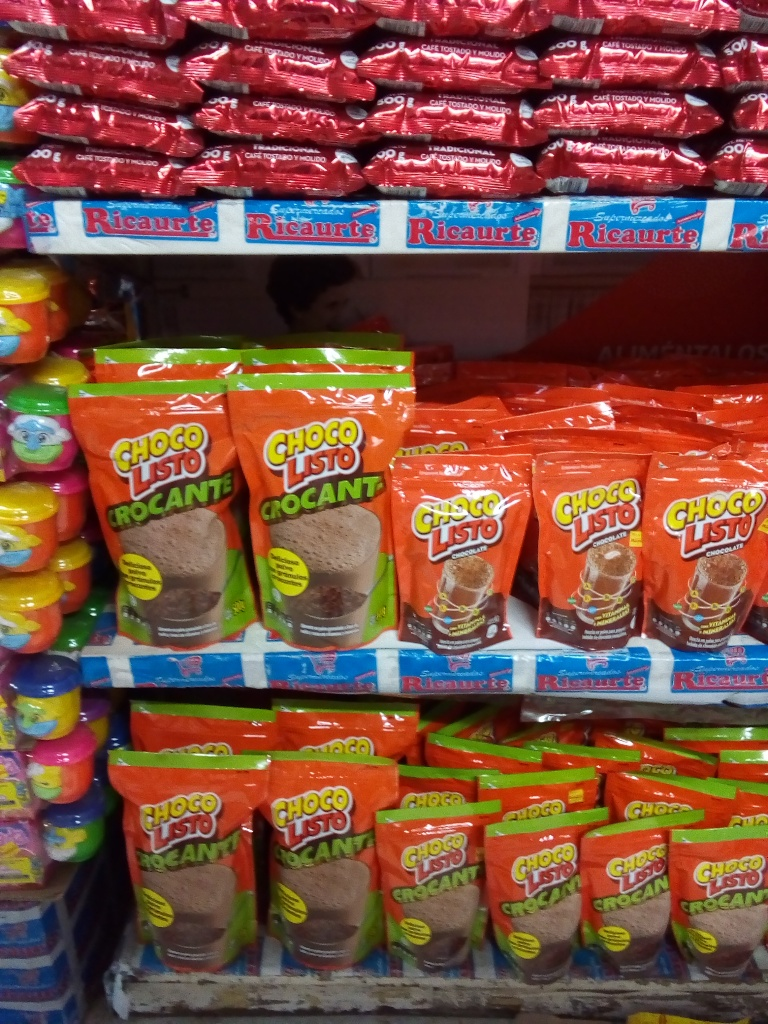COL0170102DYP25000: (663, 813, 766, 988)
COL0170102DYP50000: (57, 369, 263, 649)
